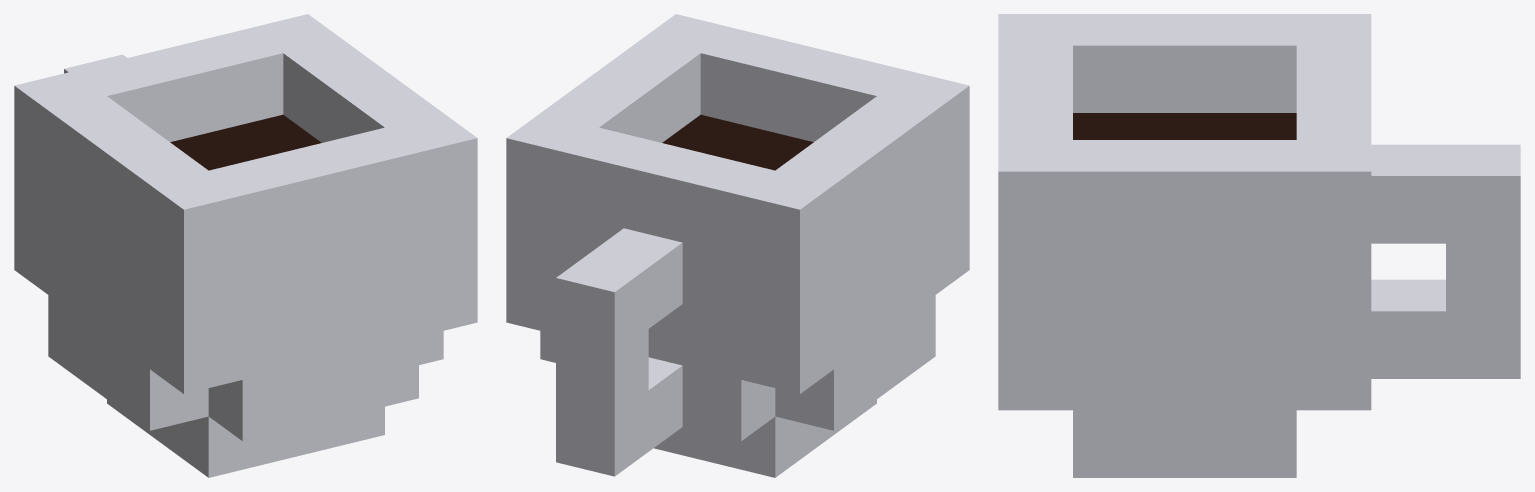
Rendered from coffee_cup.dae.
The picture shows the model from 3 angles, left to right: view 1: azimuth 30°, elevation 25°; view 2: azimuth 150°, elevation 25°; view 3: azimuth 270°, elevation 25°; orthographic projection. The views are drawn at different scales.
Visible parts, largest first — view 1: Untitled; view 2: Untitled; view 3: Untitled.
Part boxes in pixels (x1,y1,x2,y2): Untitled: [14, 14, 477, 477]; Untitled: [506, 14, 969, 477]; Untitled: [998, 14, 1520, 477].
Bounding box in the file's own units: 0.15 × 0.21 × 0.15.
1 material, 1 textured.
